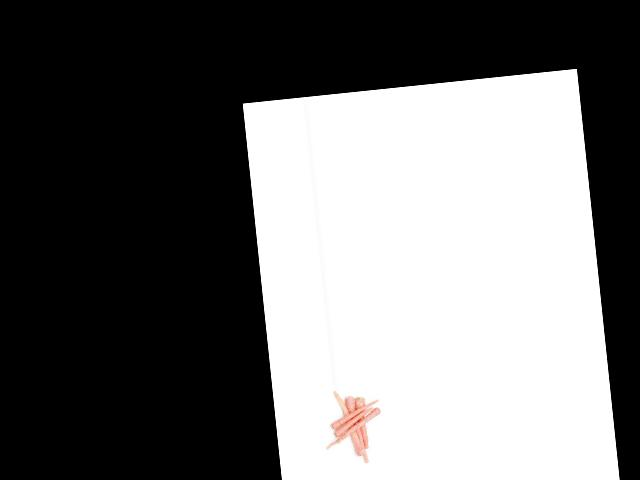carrot: (329, 398, 380, 427)
